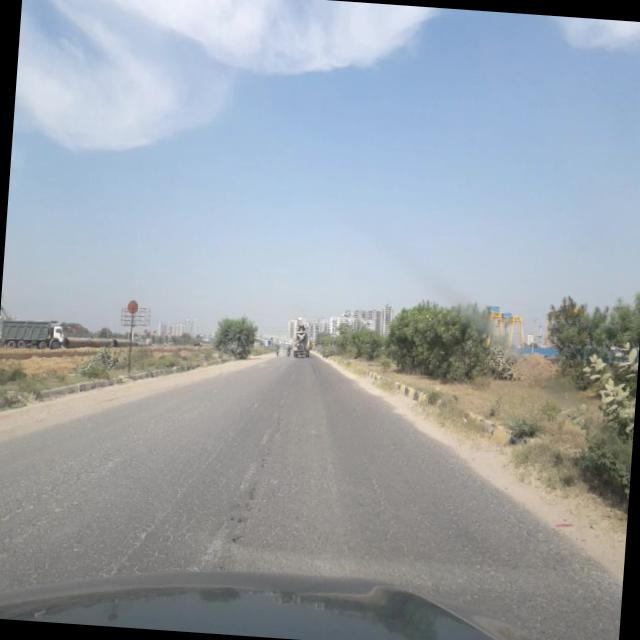crack: (0, 376, 525, 599)
pothole: (126, 422, 235, 566)
